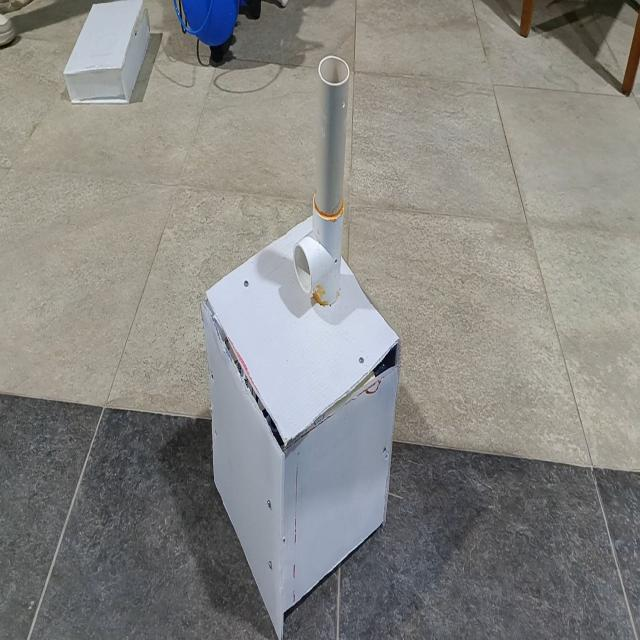Cube: (200, 214, 402, 636)
Cuboid: (63, 0, 151, 105)
